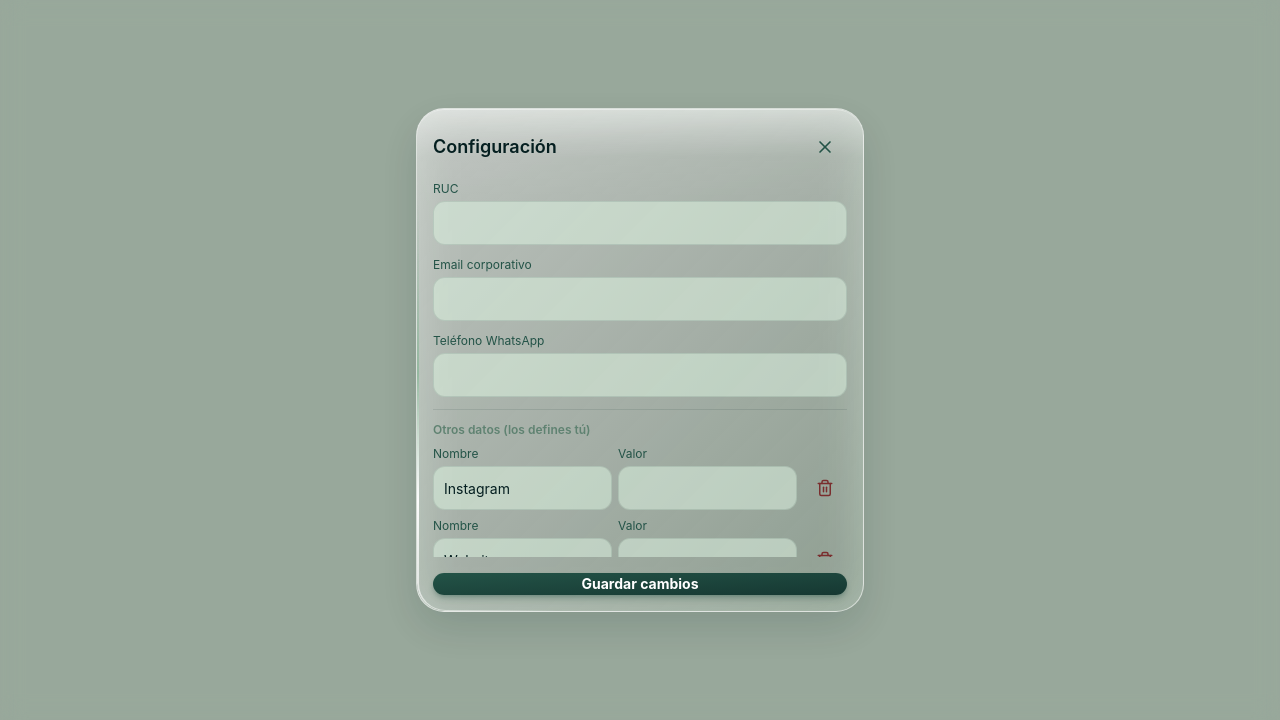
Test: SettingsPanel › blocks saving for an invalid phone
This screenshot has width=1280, height=720.
In the field labelled "Teléfono WhatsApp": (640, 375) top-left (433, 353), bottom-right (847, 397), type "12345"
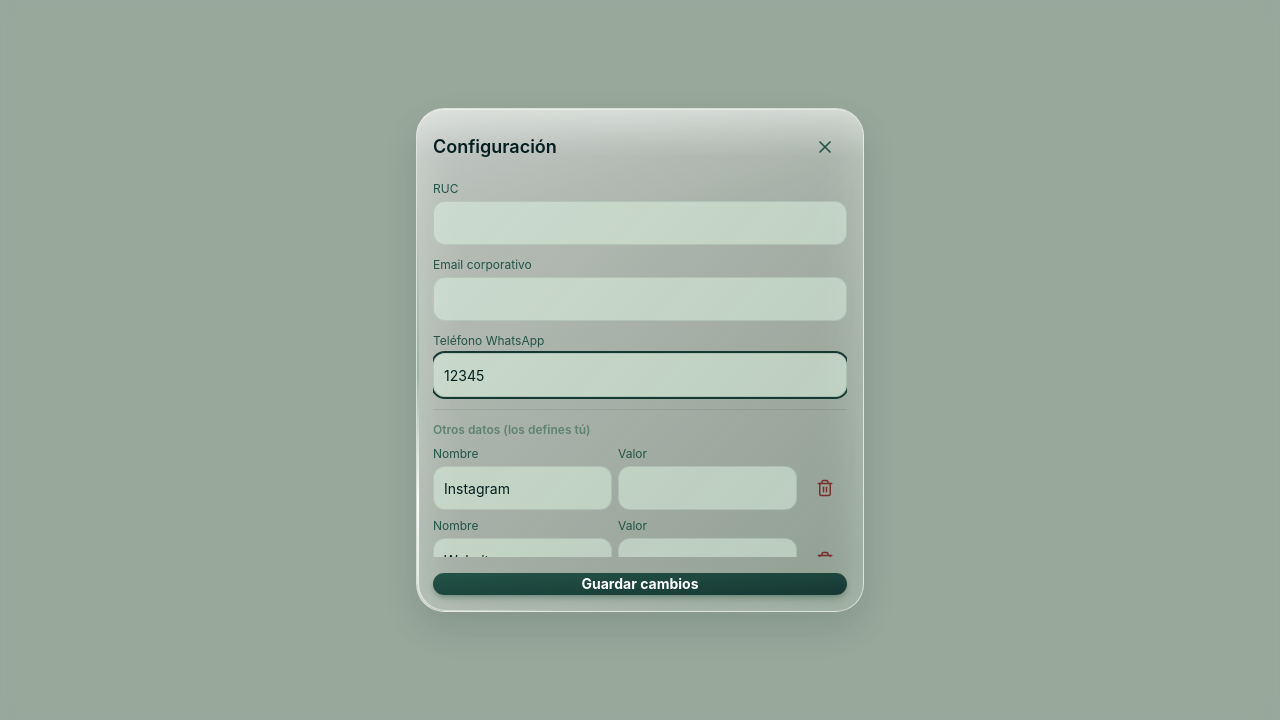
Click the button "Guardar cambios": (640, 584) top-left (433, 573), bottom-right (847, 595)
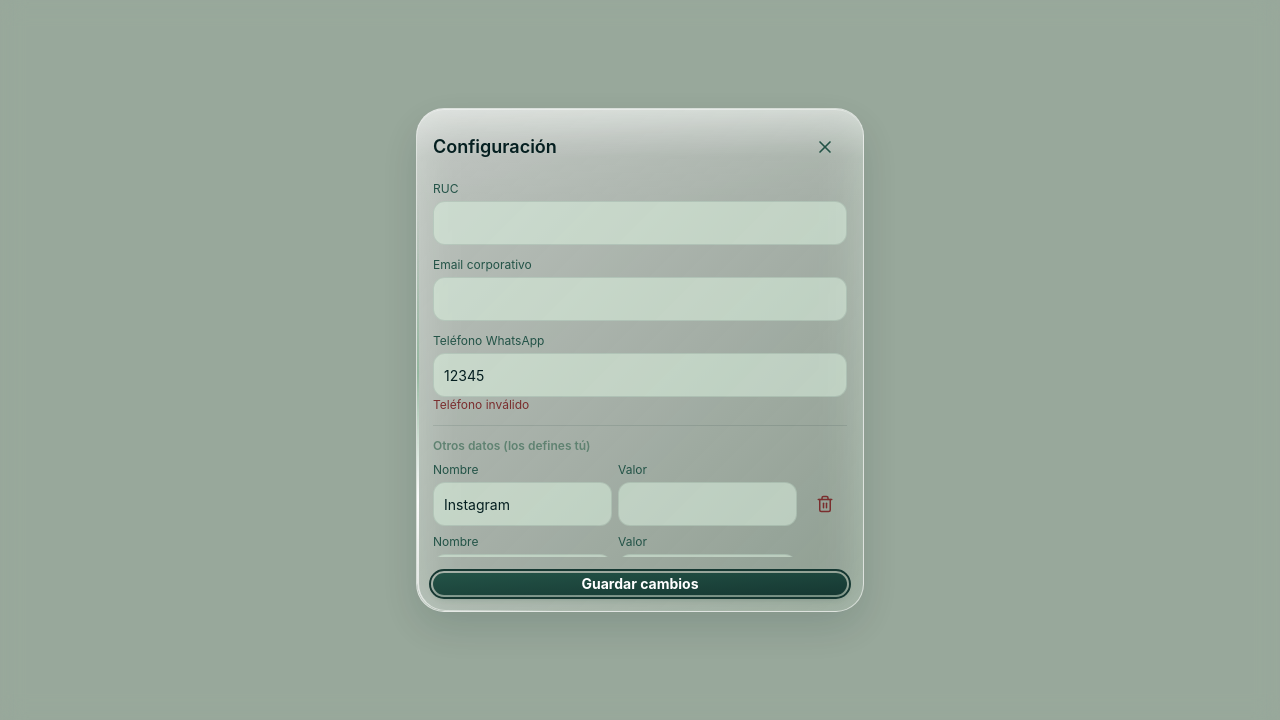
Result: the text "Teléfono inválido" is shown at top-left (433, 397), bottom-right (529, 412)
